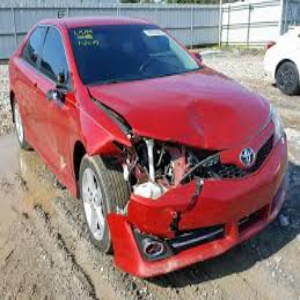bumper: (111, 169, 225, 279)
